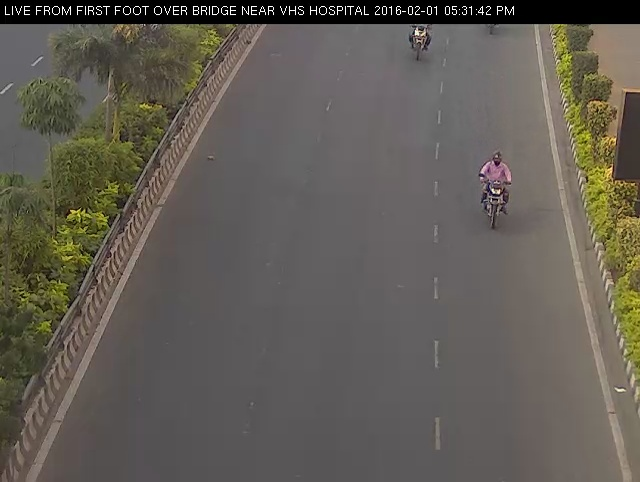Person: (475, 141, 516, 244), (403, 20, 436, 64)
